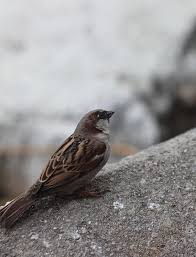hsparrow: (4, 107, 121, 246)
